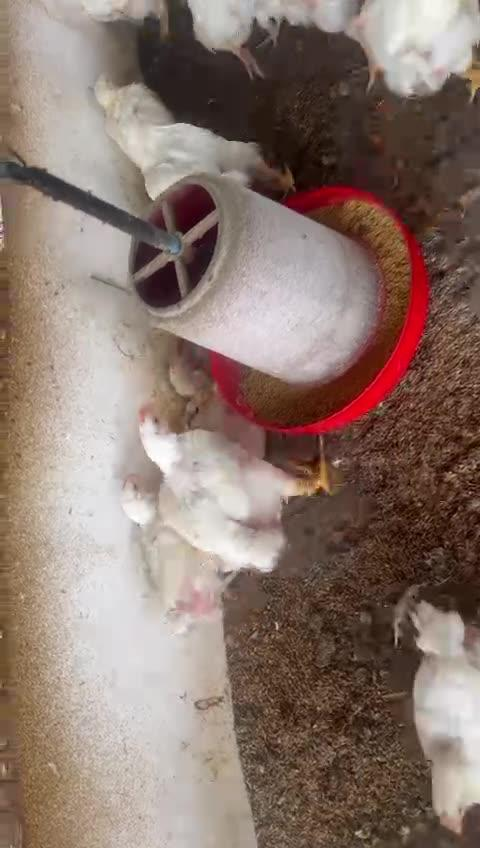AbNormal: (388, 588, 480, 845), (110, 473, 258, 622), (343, 0, 480, 102), (110, 112, 280, 190), (80, 65, 168, 152)
Normal: (132, 405, 338, 572)
